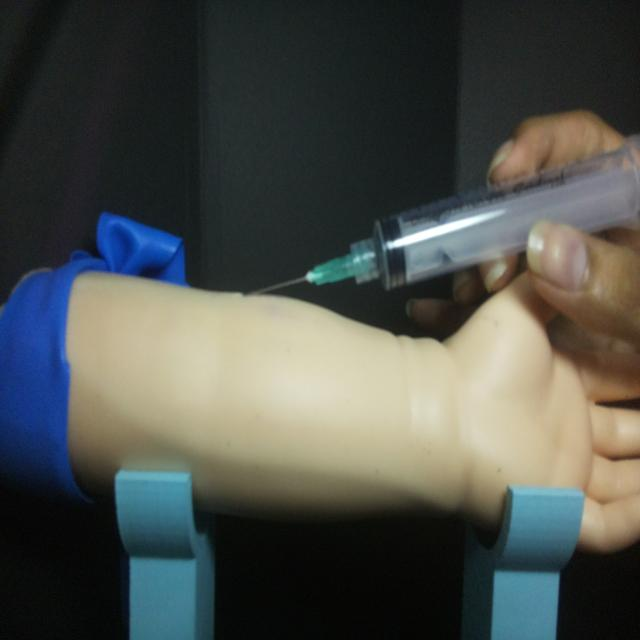19deg: (244, 130, 638, 301)
